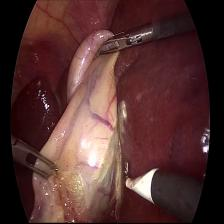Grasper: (97, 14, 155, 61), (14, 132, 58, 184)
Hook: (124, 156, 156, 210)
